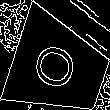O_E: (31, 39, 87, 96)
